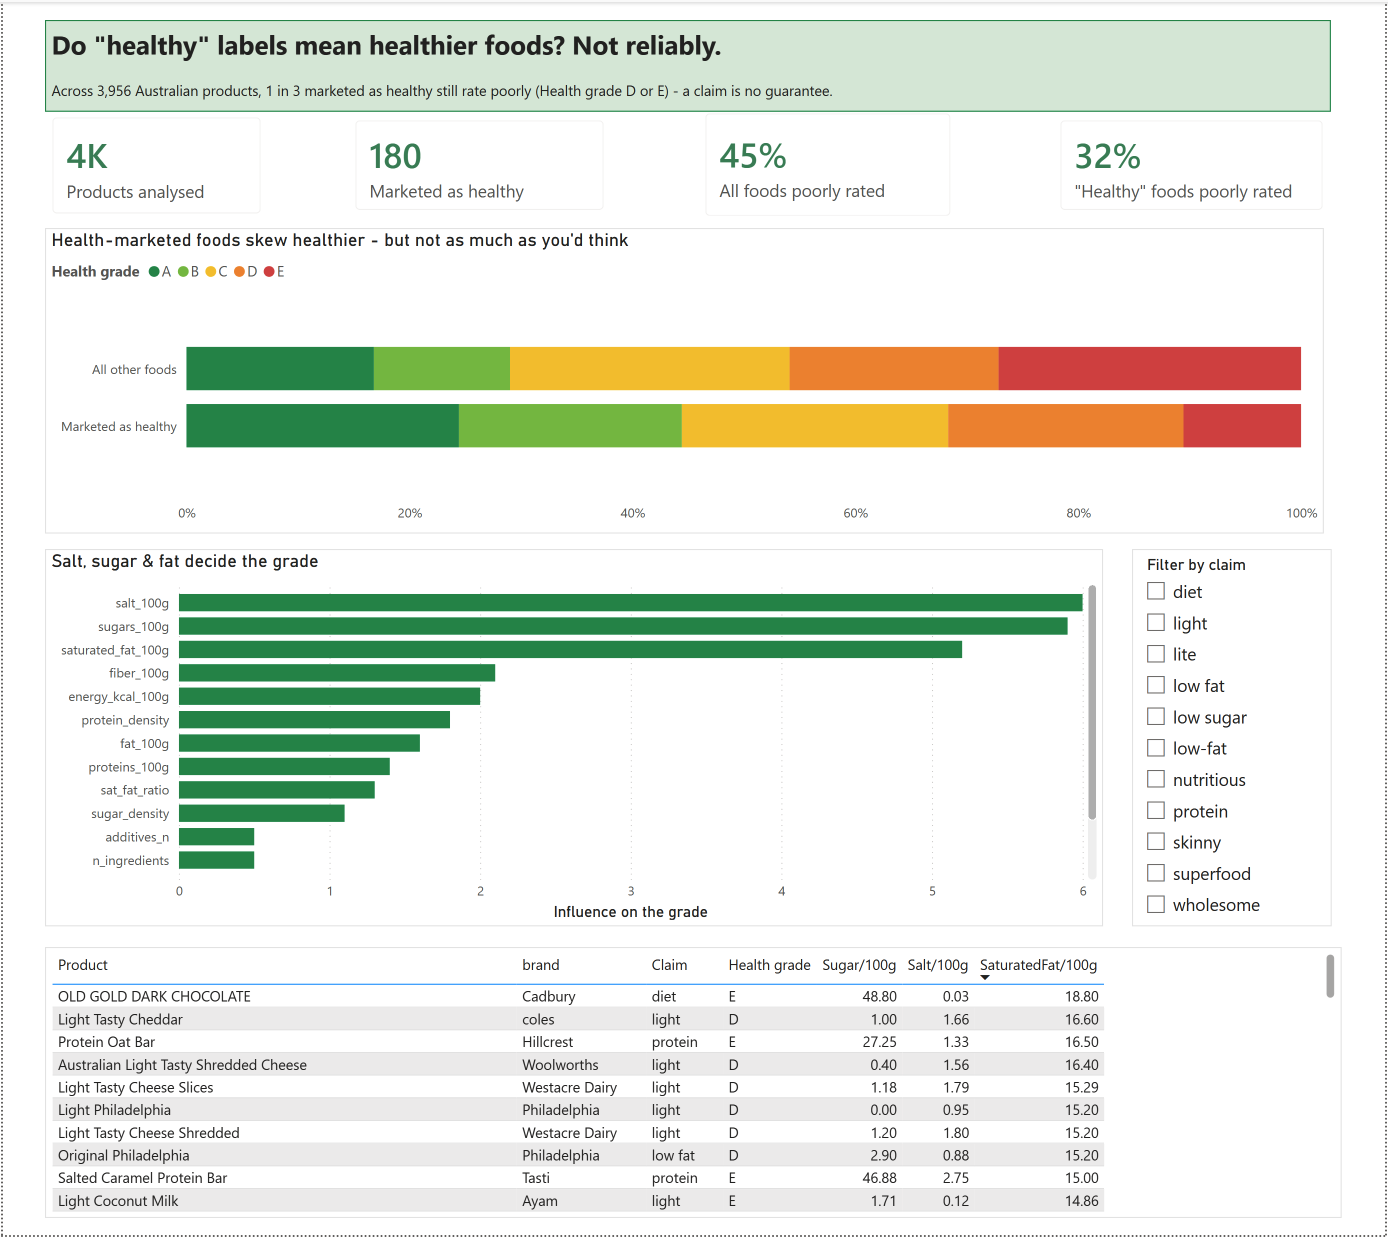

What the dashboard file says about the page in this screenshot:
{"tool":"powerbi","page":{"name":"Page 1","canvas":[1280,1142],"ordinal":0},"visuals":[{"type":"cardVisual","fields":{"Data":["au_food_model.Baseline DE %"]},"box":[633.2,86.5,261.3,129.2],"z":0},{"type":"cardVisual","fields":{"Data":["au_food_model.Halo Rate %"]},"box":[962.4,93,277.1,117.2],"z":1000},{"type":"cardVisual","fields":{"Data":["au_food_model.Products analysed"]},"box":[28.8,90.2,227.8,123.7],"z":2000},{"type":"cardVisual","fields":{"Data":["Sum(au_food_model.claims_healthy)"]},"box":[309.6,93,264.1,117.2],"z":3000},{"type":"hundredPercentStackedBarChart","title":"Health-marketed foods skew healthier - but not as much as you''d think","fields":{"Category":["au_food_model.is_health_marketed"],"Series":["au_food_model.grade_upper"],"Y":["CountNonNull(au_food_model.product_name)"]},"box":[38.6,209.5,1184.5,282.8],"z":4000},{"type":"tableEx","fields":{"Values":["au_food_model.product_name","au_food_model.brands","au_food_model.health_claim","au_food_model.grade_upper","Sum(au_food_model.sugars_100g)","Sum(au_food_model.salt_100g)","Sum(au_food_model.saturated_fat_100g)"]},"box":[38.6,875.6,1200.9,251],"z":5000},{"type":"slicer","fields":{"Values":["au_food_model.health_claim"]},"box":[1046.1,506.8,185,349.6],"z":6000},{"type":"clusteredBarChart","title":"Salt, sugar & fat decide the grade","fields":{"Category":["feature_importance.feature"],"Y":["Sum(feature_importance.importance)"]},"box":[39.1,506.8,980.1,349.6],"z":7000},{"type":"textbox","box":[38.6,16.4,1191.2,85],"z":8000}]}

Visuals, with their boxes in screenshot pixels (x1, y1, x2, y2), scaled from the page's 1280x1142 canvas onto the 1388x1239 screenshot:
cardVisual - au_food_model.Baseline DE %: x1=687 y1=94 x2=970 y2=234
cardVisual - au_food_model.Halo Rate %: x1=1044 y1=101 x2=1344 y2=228
cardVisual - au_food_model.Products analysed: x1=31 y1=98 x2=278 y2=232
cardVisual - Sum(au_food_model.claims_healthy): x1=336 y1=101 x2=622 y2=228
"Health-marketed foods skew healthier - but not as much as you''d think" hundredPercentStackedBarChart: x1=42 y1=227 x2=1326 y2=534
tableEx - au_food_model.product_name x au_food_model.brands: x1=42 y1=950 x2=1344 y2=1222
slicer - au_food_model.health_claim: x1=1134 y1=550 x2=1335 y2=929
"Salt, sugar & fat decide the grade" clusteredBarChart: x1=42 y1=550 x2=1105 y2=929
textbox: x1=42 y1=18 x2=1334 y2=110
